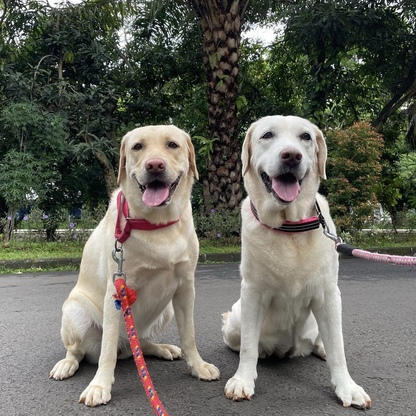labrado: (43, 118, 222, 410), (221, 110, 378, 412)
